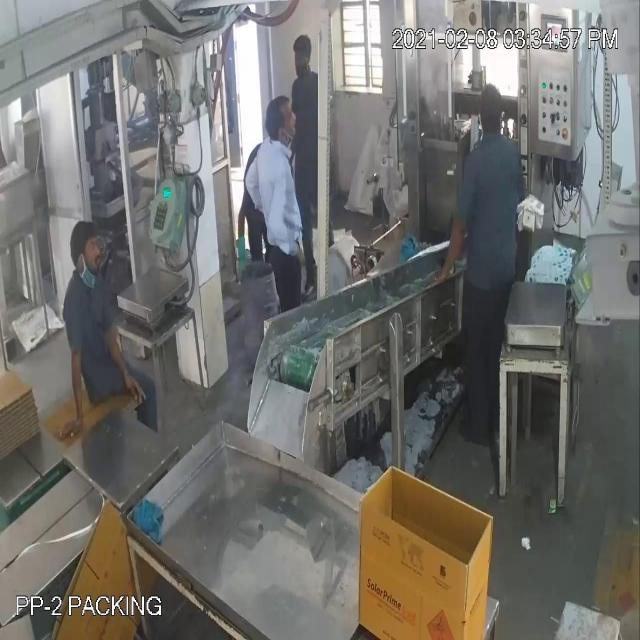Gloves: (22, 70, 448, 390)
